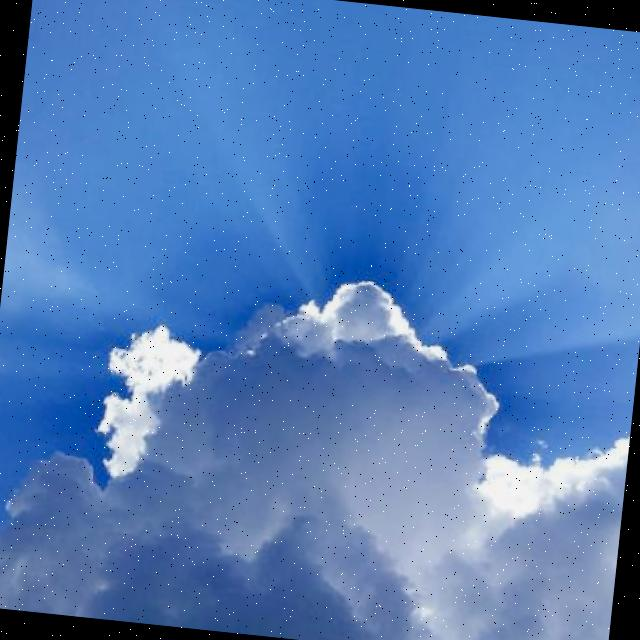As: (1, 220, 640, 640)
